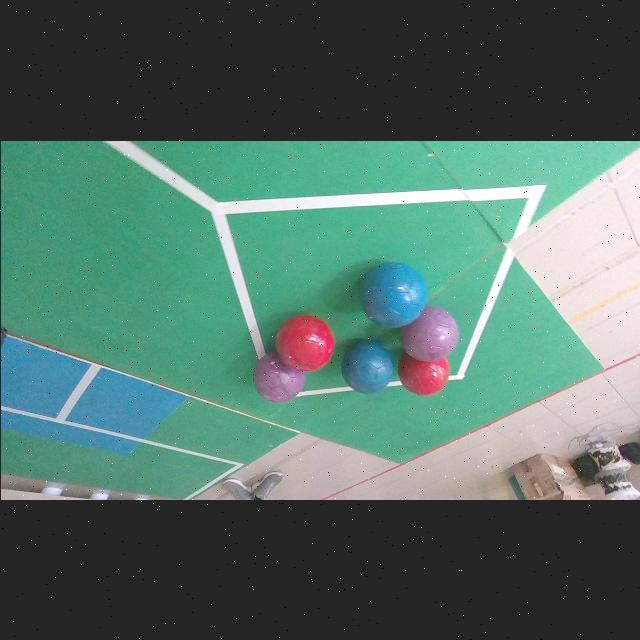B: (360, 262, 426, 327), (340, 341, 393, 394)
P: (399, 306, 458, 362), (253, 351, 305, 402)
R: (274, 314, 334, 372), (397, 352, 449, 396)
